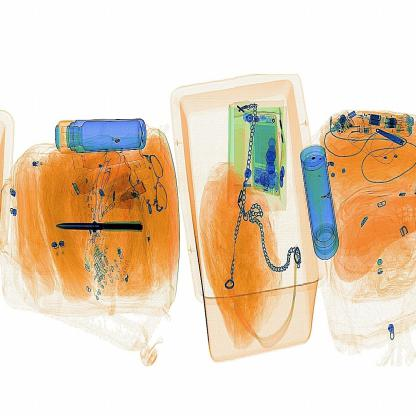gun: (48, 210, 146, 241)
